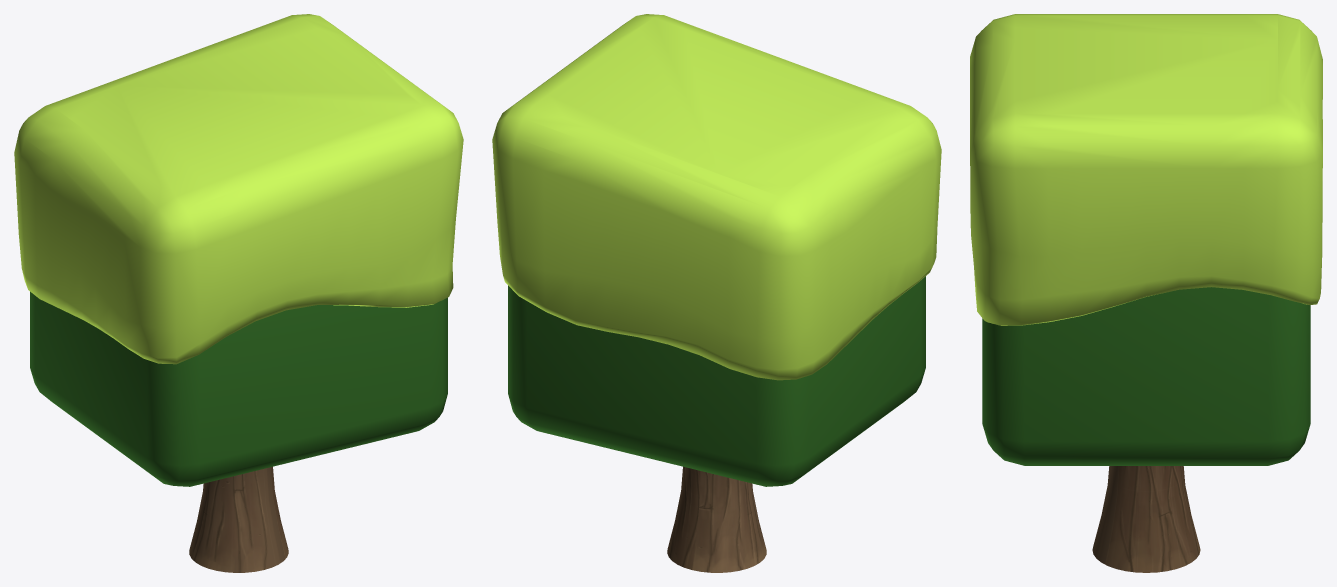
Rendered from TREES.fbx.
3 renders of one model, left to right at view 1: azimuth 30°, elevation 25°; view 2: azimuth 150°, elevation 25°; view 3: azimuth 270°, elevation 25°, orthographic. The views are drawn at different scales.
Parts seen in each view (by area): view 1: tree-square.; view 2: tree-square.; view 3: tree-square..
Part boxes in pixels (bbox=[...]): tree-square.: bbox=[14, 14, 463, 572]; tree-square.: bbox=[492, 14, 941, 572]; tree-square.: bbox=[970, 14, 1322, 572].
Size of the model in its own units: 181 by 250 by 160.
